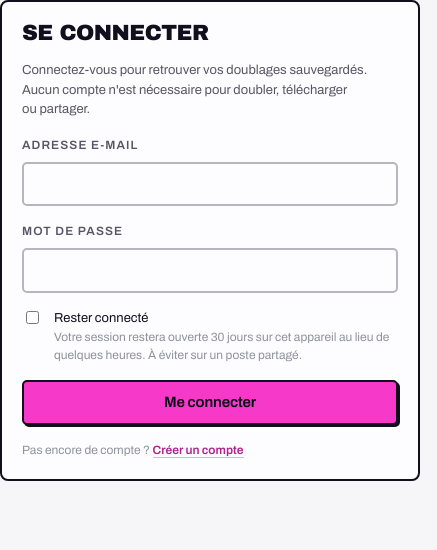
Test: LoginForm › exige les deux champs avant tout appel réseau
This screenshot has width=437, height=550.
Click the button "Me connecter" at (210, 402), box [22, 380, 398, 425]
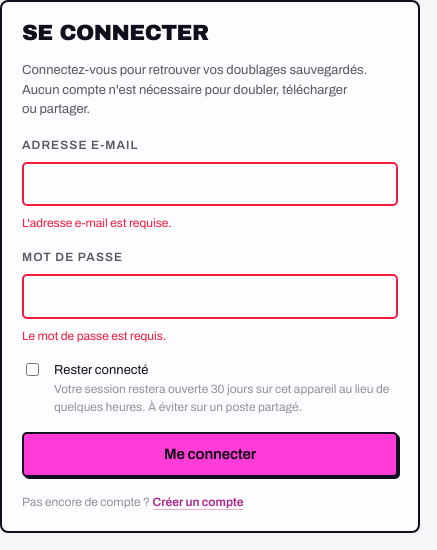
Expected: the text "L'adresse e-mail est requise." is shown, [22, 216, 172, 230]
